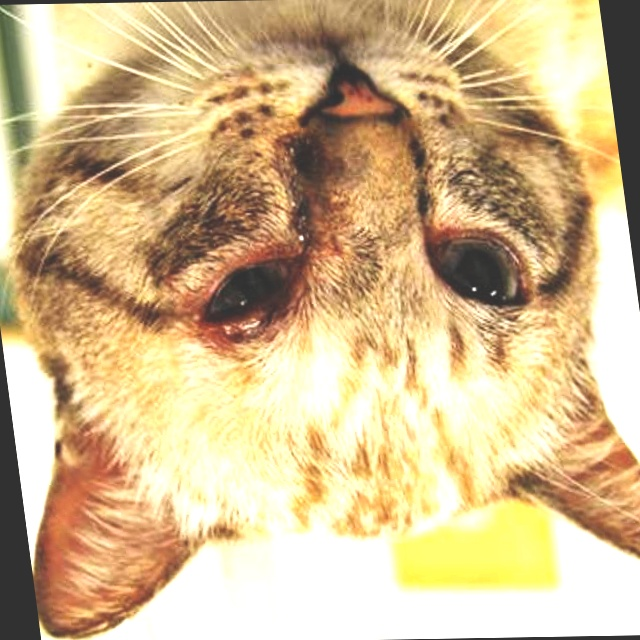eye_infection: (419, 226, 539, 318), (190, 248, 312, 334)
